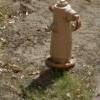a fire hydrant: (51, 3, 77, 69)
